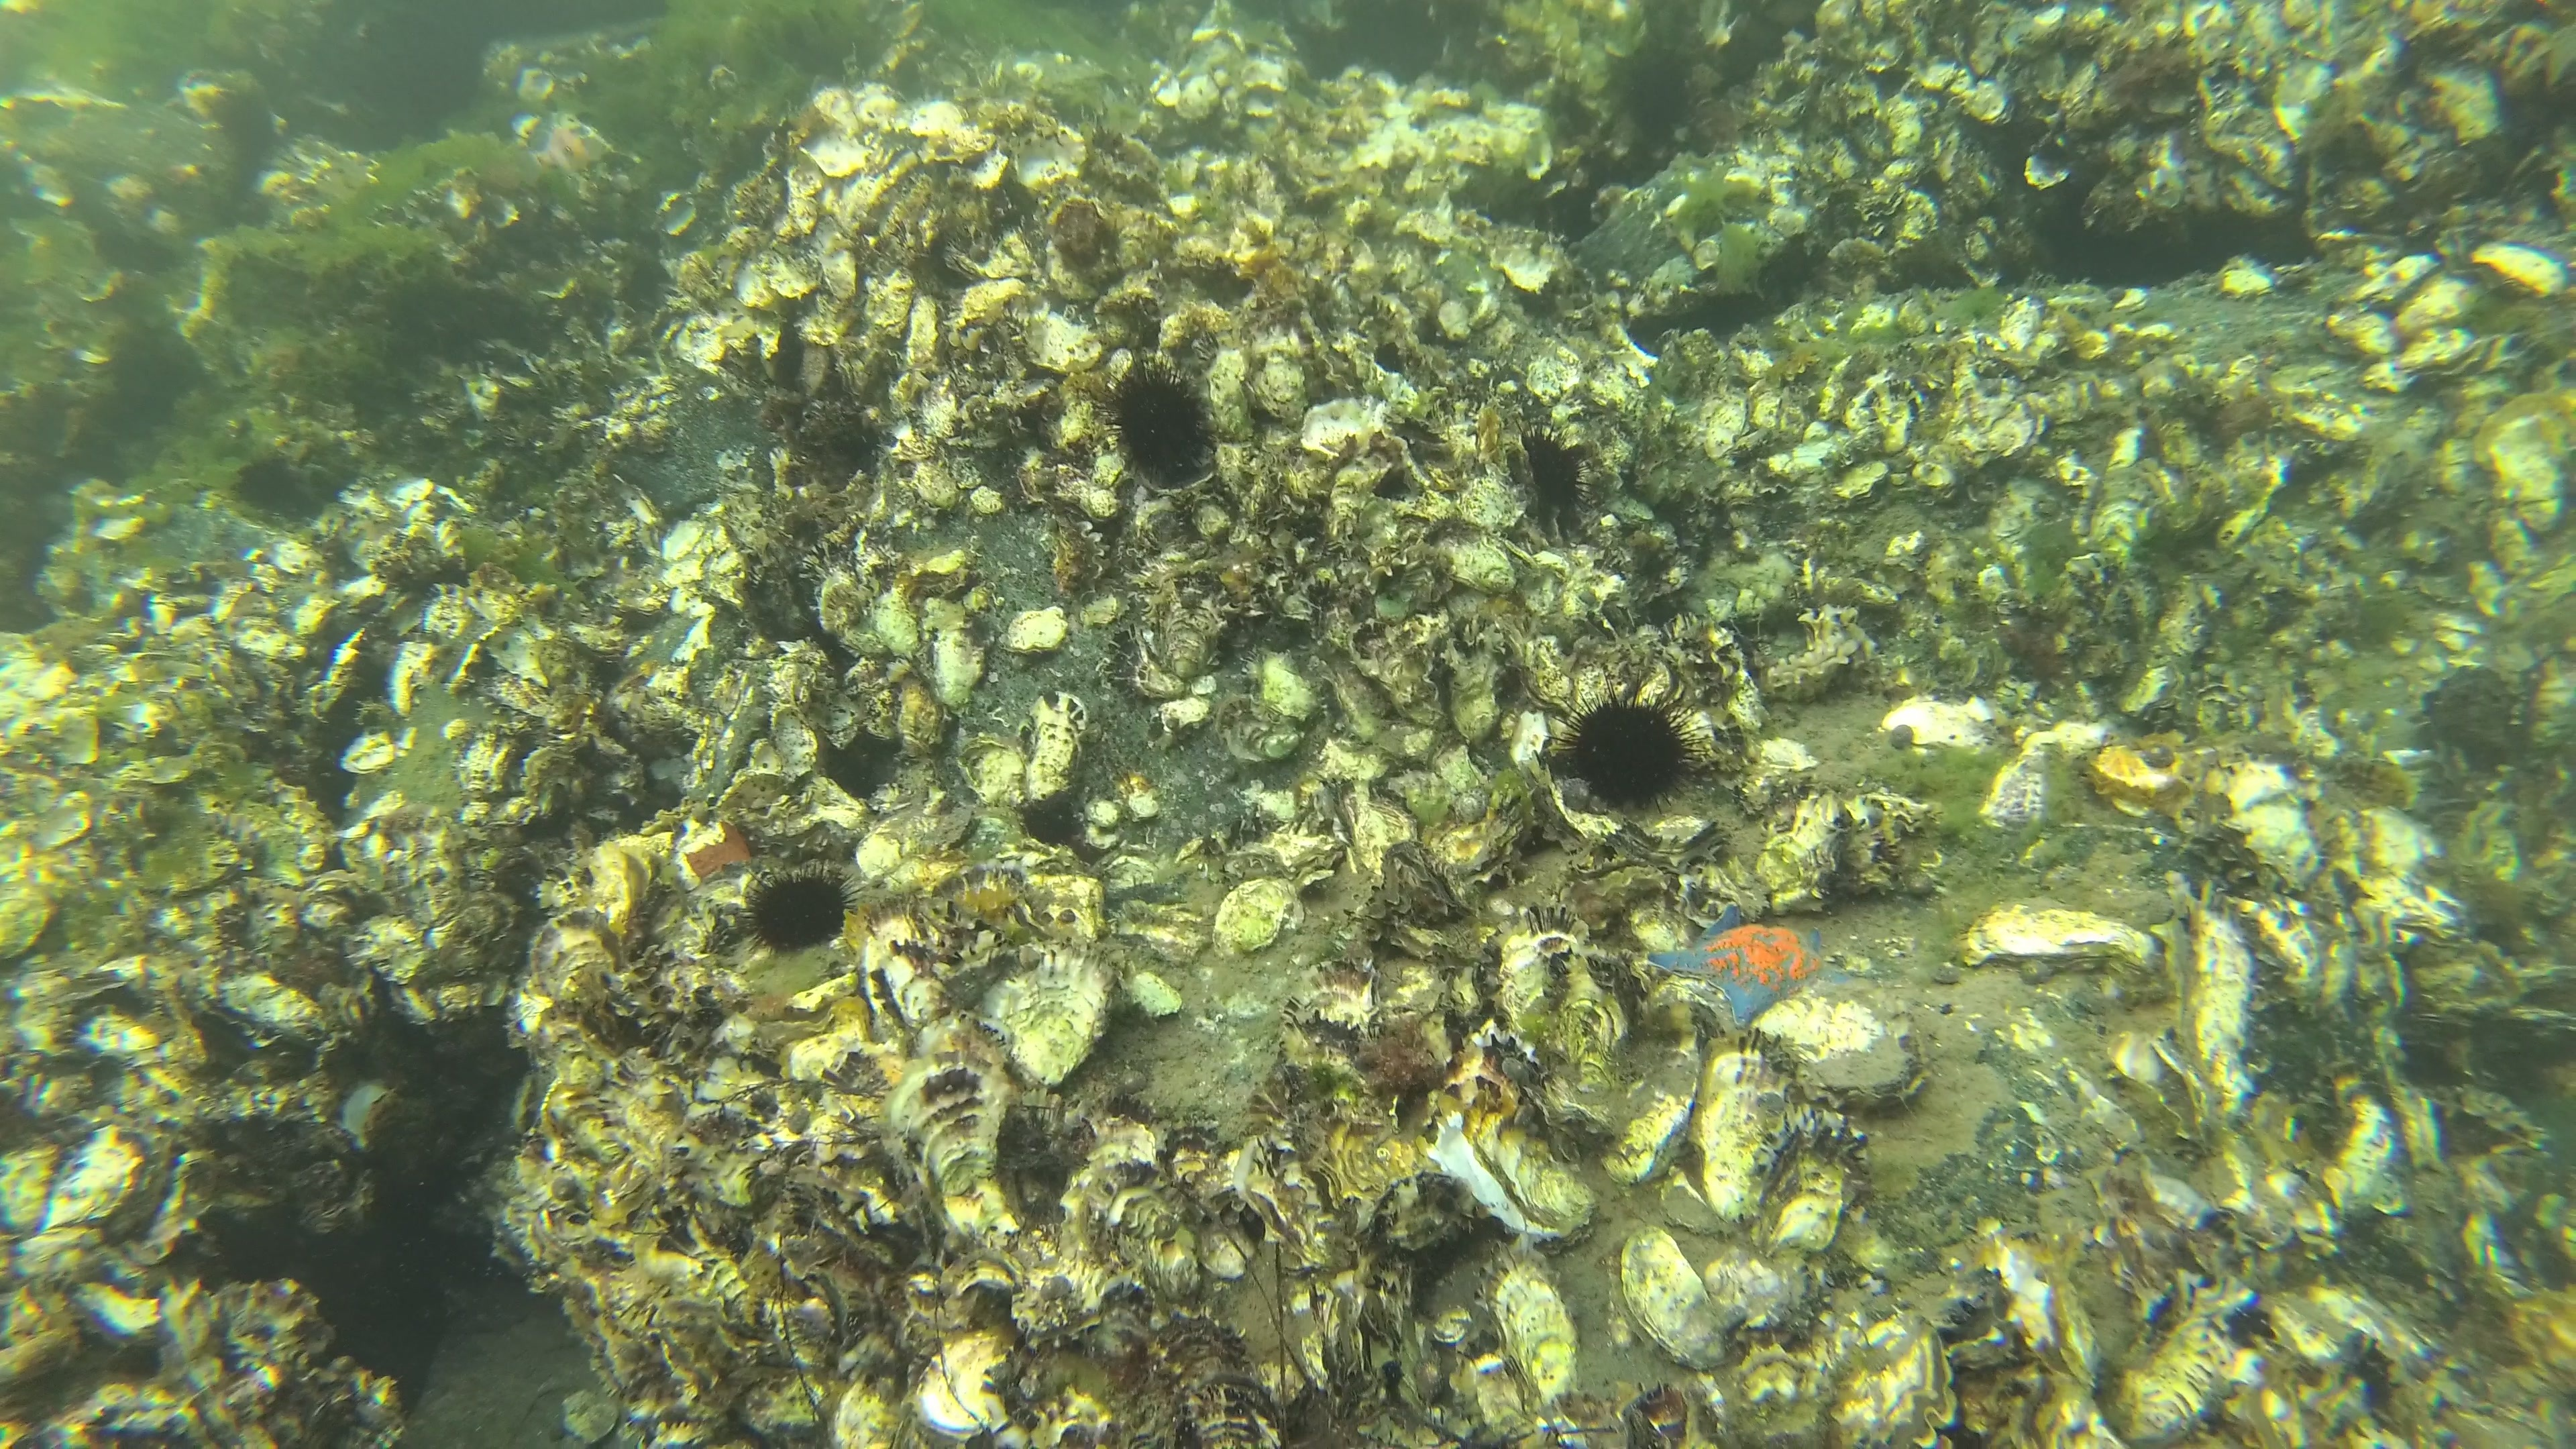echinus: (1536, 665, 1714, 828), (1090, 352, 1235, 495), (734, 853, 862, 961), (207, 432, 334, 538), (1506, 409, 1598, 550)
starfish: (1642, 895, 1856, 1033), (1665, 156, 1757, 251)
